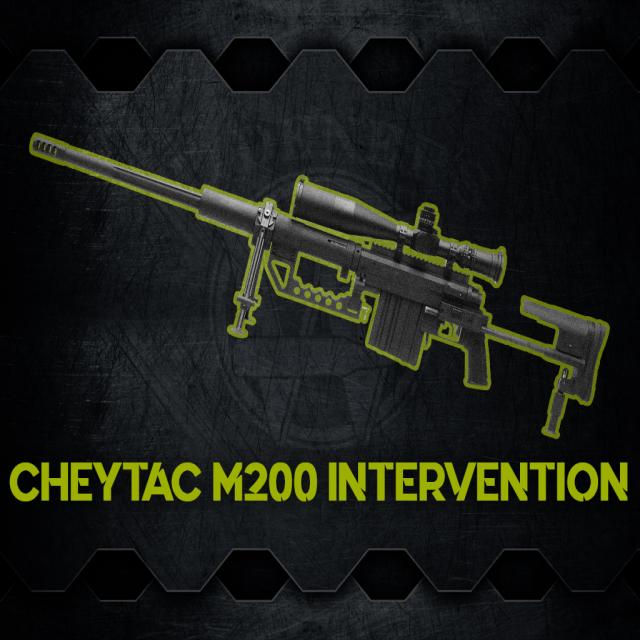Rifle: (28, 134, 612, 441)
